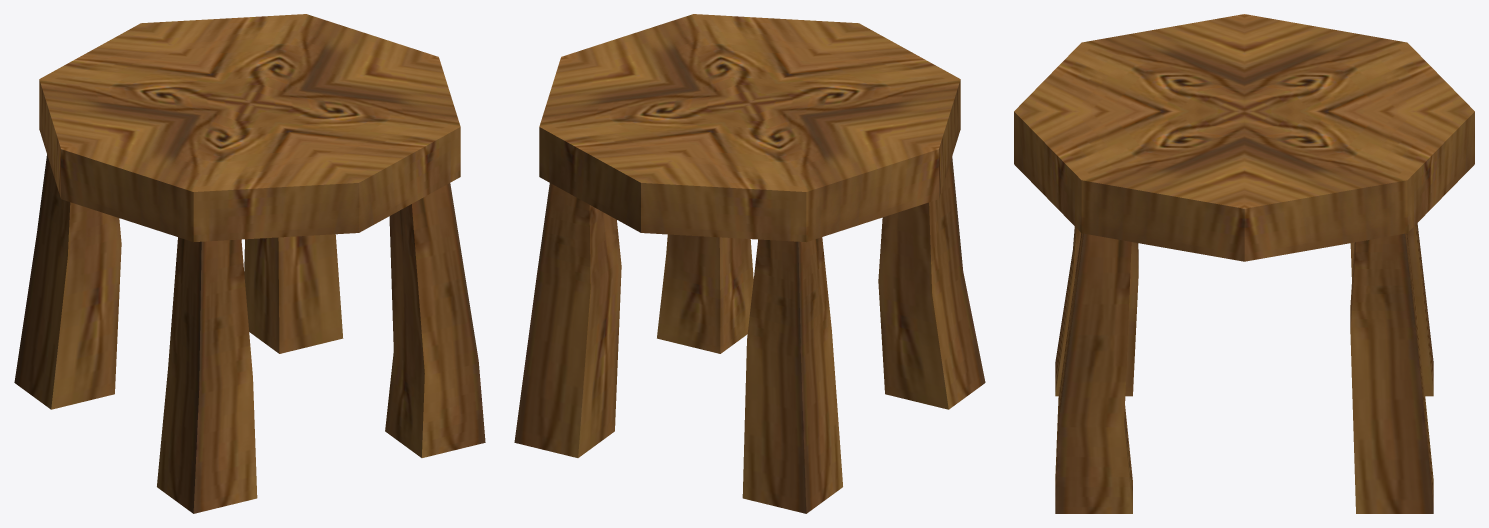
File: Props_Chair.fbx
3 views of the same model, side by side, from view 1: azimuth 30°, elevation 25°; view 2: azimuth 150°, elevation 25°; view 3: azimuth 270°, elevation 25° (orthographic). The views are drawn at different scales.
Parts seen in each view (by area): view 1: Props_Tafel_001; view 2: Props_Tafel_001; view 3: Props_Tafel_001.
Boxes of the visible parts, box(x1,y1,x2,y2) form: Props_Tafel_001: box(14, 14, 485, 513); Props_Tafel_001: box(514, 14, 985, 513); Props_Tafel_001: box(1014, 14, 1474, 513).
Size of the model in its own units: 6.26 by 4.91 by 6.26.
